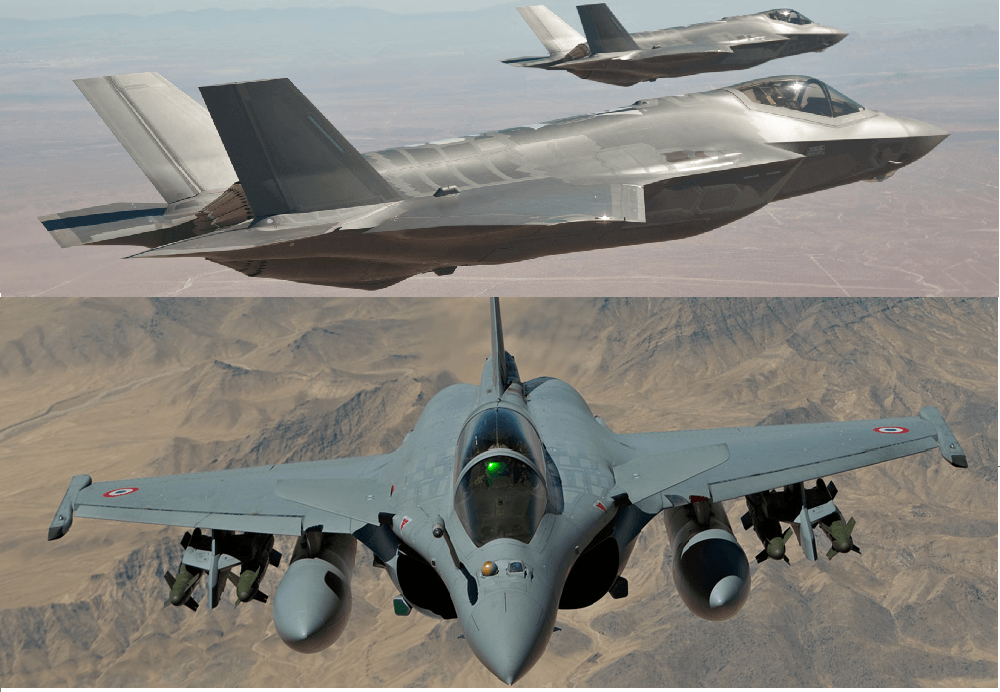F35: (33, 69, 954, 295), (494, 0, 856, 90)
Rafale: (39, 295, 981, 687)
